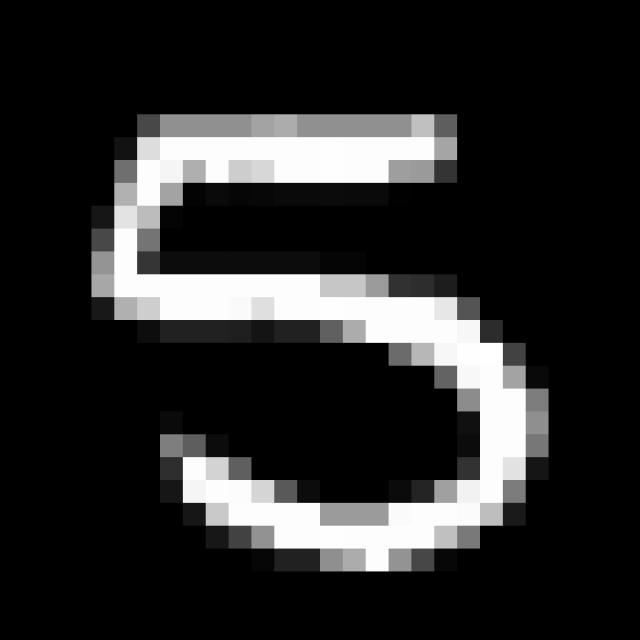five -5-: (80, 108, 561, 586)
